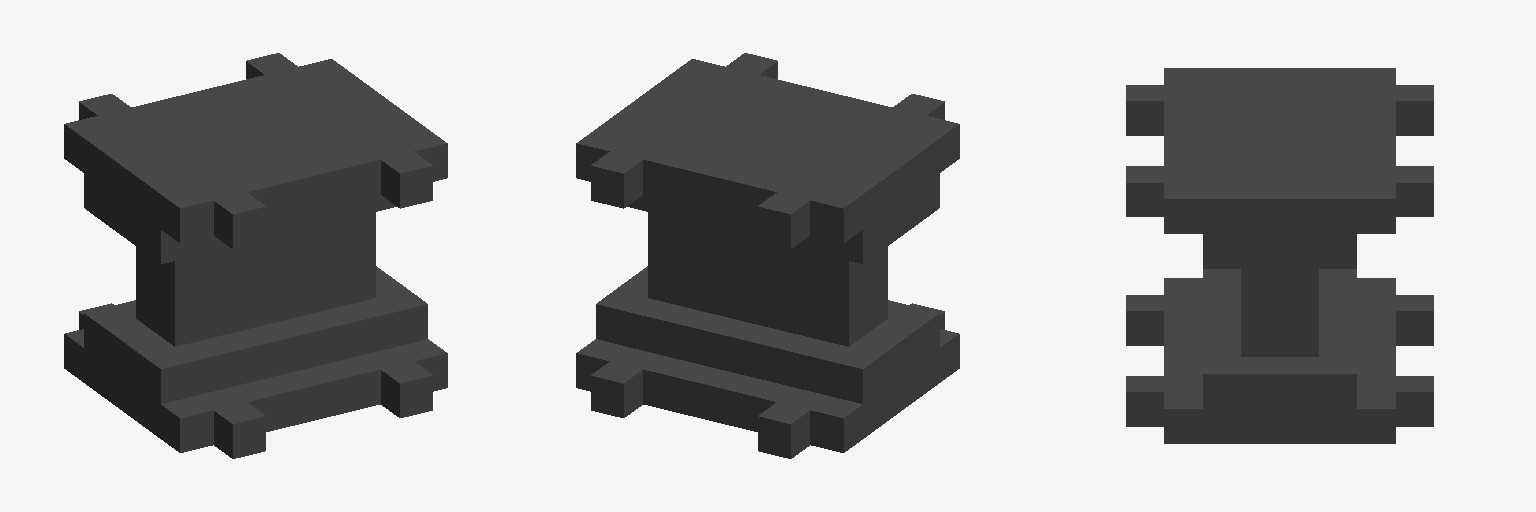
3 renders of one model, left to right at view 1: azimuth 30°, elevation 25°; view 2: azimuth 150°, elevation 25°; view 3: azimuth 270°, elevation 25°, orthographic.
Parts seen in each view (by area): view 1: object 1; view 2: object 1; view 3: object 1.
Part boxes in pixels (x1,y1,x2,y2): object 1: (64, 53, 447, 458); object 1: (576, 53, 959, 458); object 1: (1126, 68, 1433, 443).
Size of the model in its own units: 0.8 by 0.7 by 0.8.
1 materials, 1 textured.